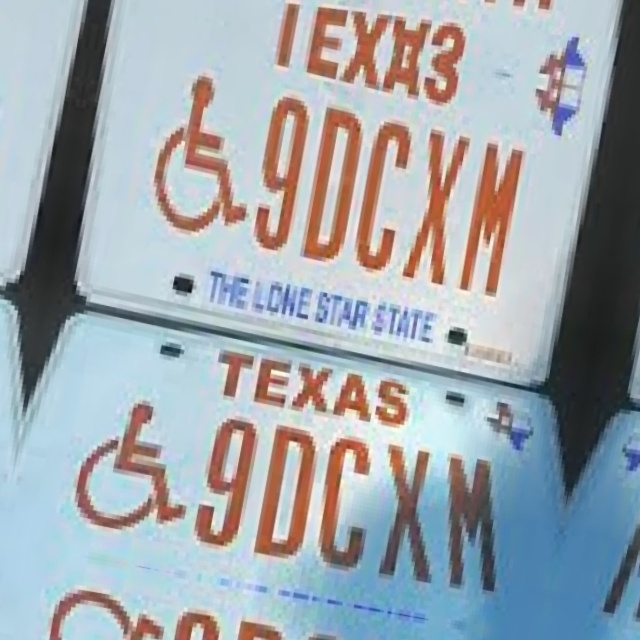ISA: (137, 67, 269, 255), (66, 388, 204, 544), (31, 581, 168, 640), (0, 19, 10, 207)
